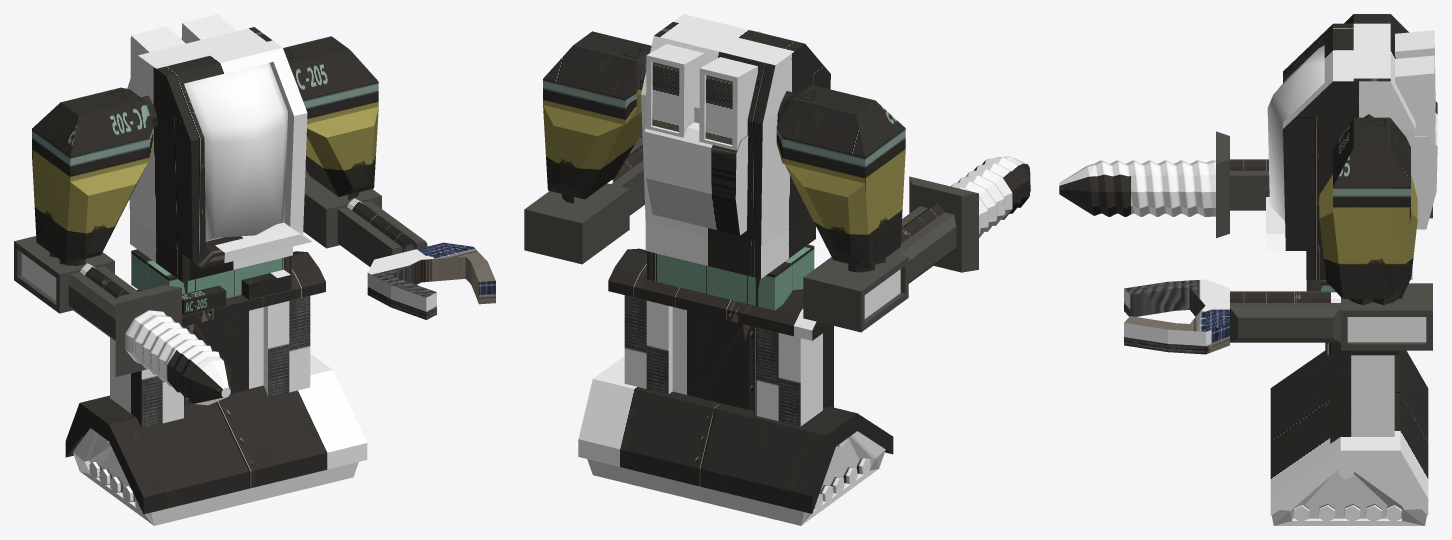
File: worker_drone_v1.dae
3 renders of one model, left to right at view 1: azimuth 30°, elevation 25°; view 2: azimuth 150°, elevation 25°; view 3: azimuth 270°, elevation 25°, orthographic. The views are drawn at different scales.
Parts seen in each view (by area): view 1: drone_worker; view 2: drone_worker; view 3: drone_worker.
Boxes of the visible parts, x1,y1,x2,y2 form: drone_worker: (14, 14, 495, 525); drone_worker: (524, 14, 1030, 525); drone_worker: (1059, 14, 1437, 525).
Size of the model in its own units: 5.78 by 5.29 by 6.55.
